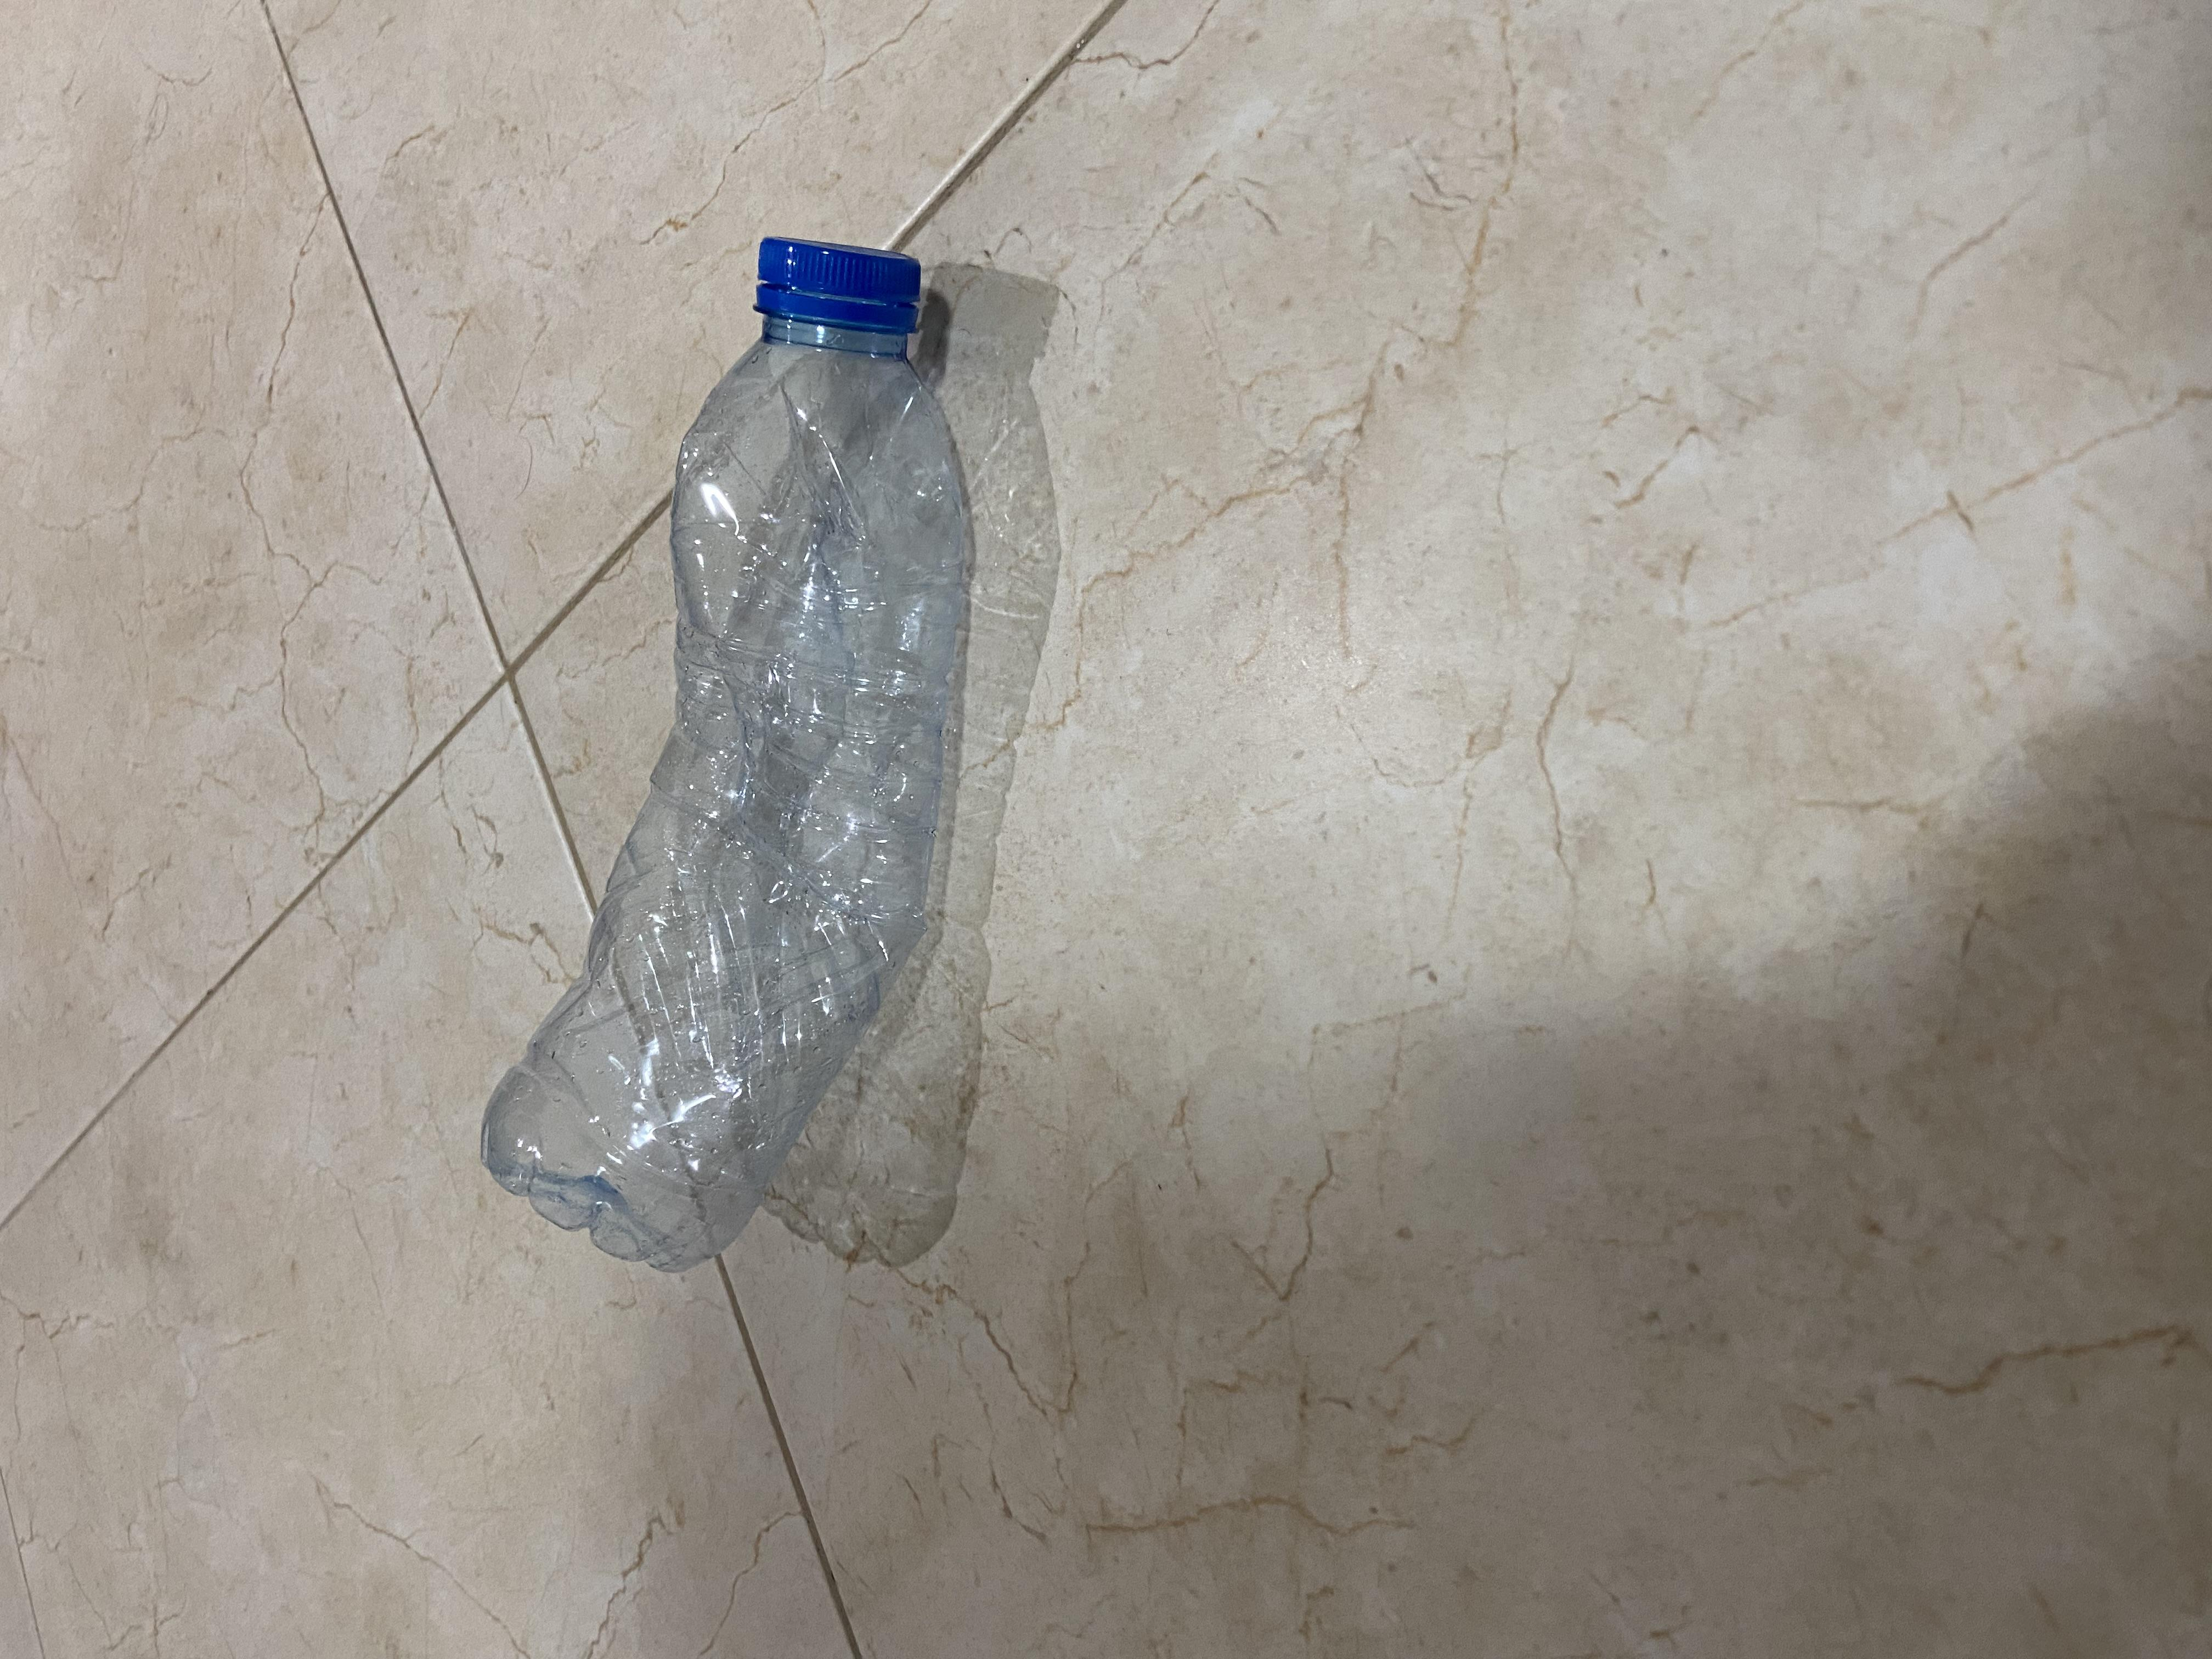bottle: (470, 342, 1933, 756)
